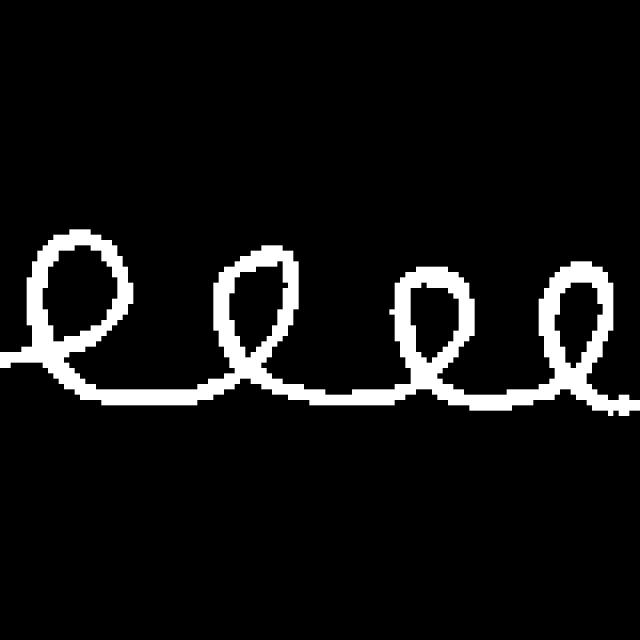inductor: (18, 214, 617, 442)
